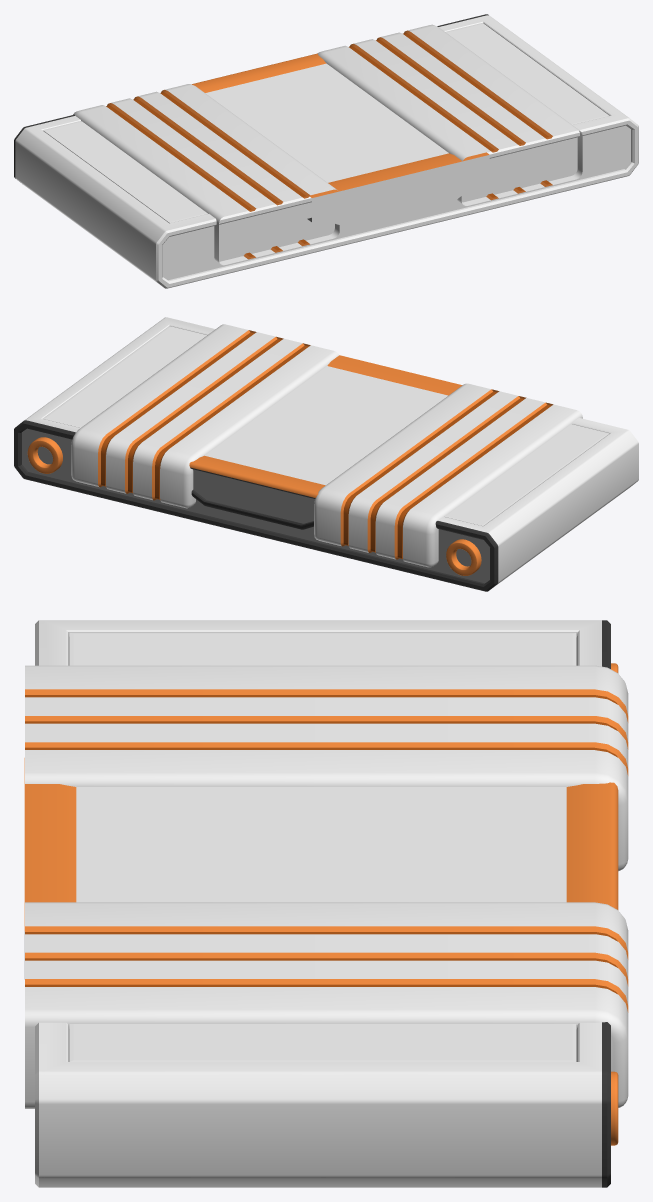
The model's file is FloorTile6x.fbx.
3 renders of one model, top to bottom at view 1: azimuth 30°, elevation 25°; view 2: azimuth 150°, elevation 25°; view 3: azimuth 270°, elevation 25°, orthographic. The views are drawn at different scales.
Parts seen in each view (by area): view 1: Cylinder.007; view 2: Cylinder.007; view 3: Cylinder.007.
Boxes of the visible parts, x1,y1,x2,y2 form: Cylinder.007: [14, 14, 638, 288]; Cylinder.007: [14, 317, 638, 591]; Cylinder.007: [24, 620, 628, 1187].
Bounding box in the file's own units: 800 × 97.78 × 433.
